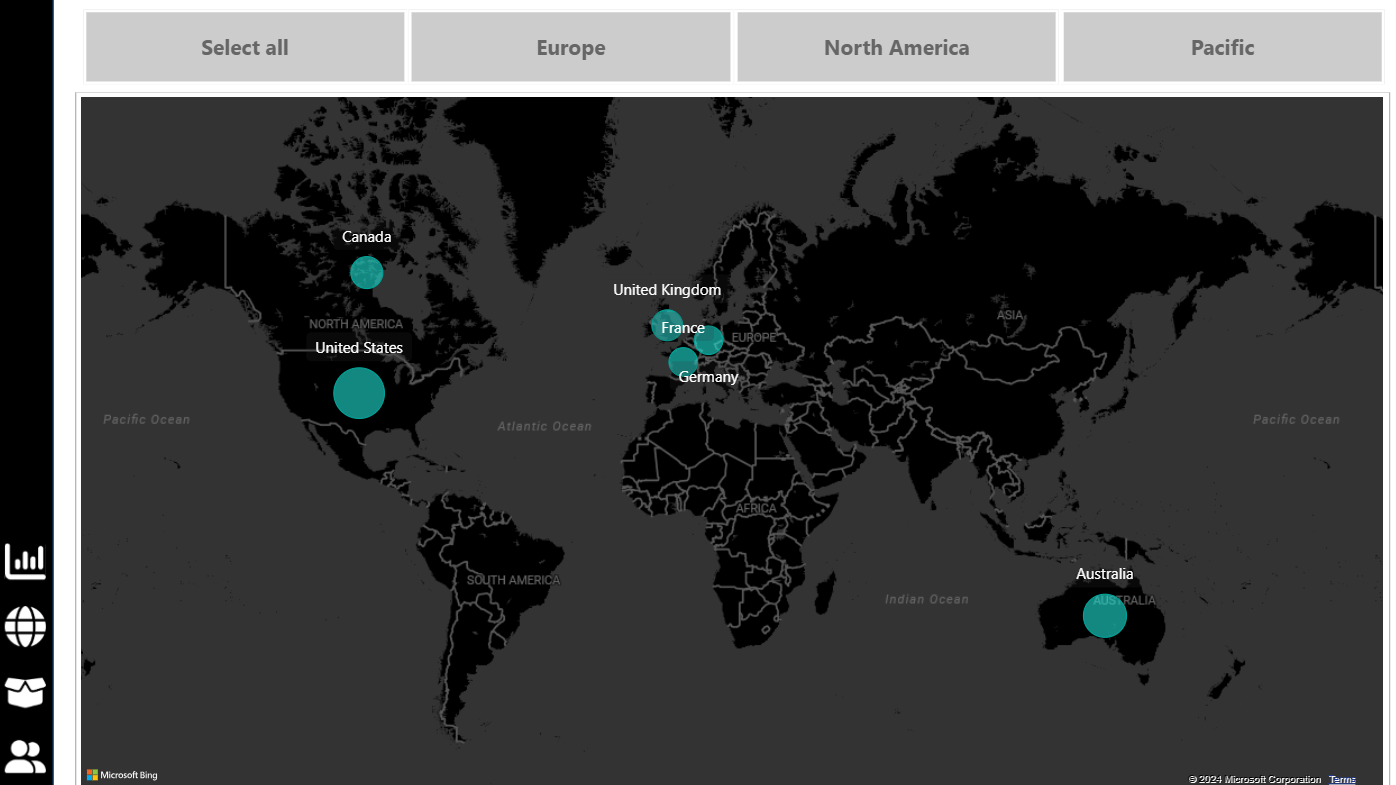

The dashboard page shown, as its layout file describes it:
{"tool":"powerbi","page":{"name":"Map","canvas":[1280,720],"ordinal":1},"visuals":[{"type":"shape","box":[0,0,57.7,719.9],"z":0},{"type":"actionButton","box":[9.7,487.4,76,44.6],"z":1000,"group":"g1"},{"type":"map","fields":{"Category":["Territory Lookup.Country"],"Size":["Measure Table.Total Orders"]},"box":[77.2,91.7,1170.2,628.6],"z":1000},{"type":"slicer","fields":{"Values":["Territory Lookup.Continent"]},"box":[57.9,10.9,1208.9,80.8],"z":2000},{"type":"actionButton","box":[9.7,545.3,76,44.6],"z":2000,"group":"g1"},{"type":"actionButton","box":[9.7,604.4,76,44.6],"z":3000,"group":"g1"},{"type":"group","id":"g1","title":"Navigation Buttons","box":[9.7,487.4,76,218.4],"z":3000},{"type":"actionButton","box":[9.7,661.1,76,44.6],"z":4000,"group":"g1"}]}

Visuals, with their boxes in screenshot pixels (x1, y1, x2, y2):
shape: bbox=[0, 0, 50, 784]
actionButton: bbox=[0, 536, 81, 586]
map - Territory Lookup.Country x Measure Table.Total Orders: bbox=[72, 95, 1376, 784]
slicer - Territory Lookup.Continent: bbox=[50, 5, 1395, 95]
actionButton: bbox=[0, 601, 81, 651]
actionButton: bbox=[0, 667, 81, 716]
"Navigation Buttons" group: bbox=[0, 536, 81, 780]
actionButton: bbox=[0, 730, 81, 780]
